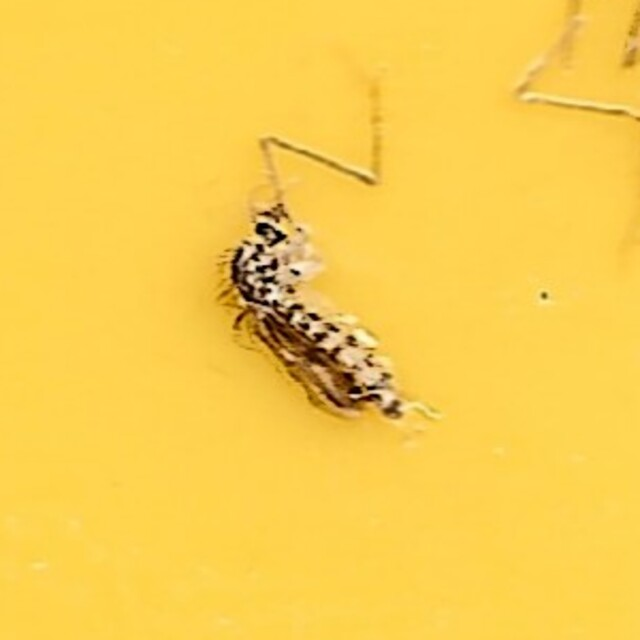Nematocera: (213, 192, 427, 448)
